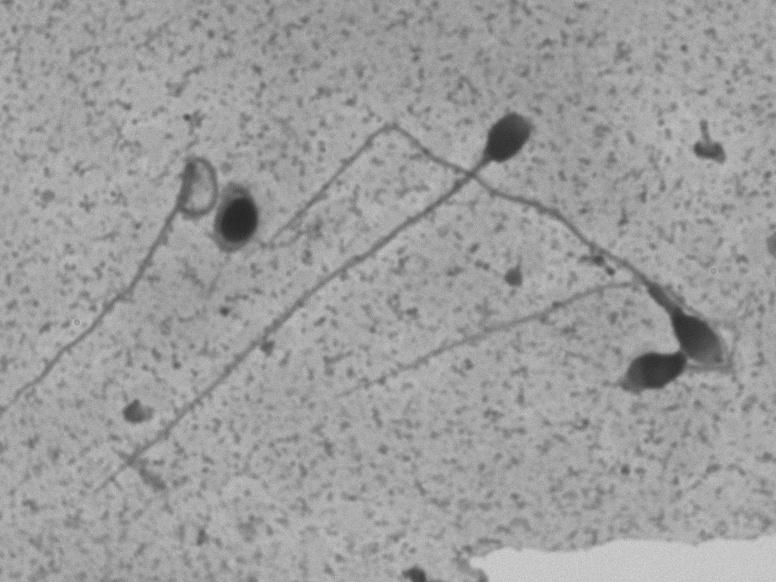Abnormal: (209, 160, 272, 271)
Normal: (71, 104, 547, 507)
